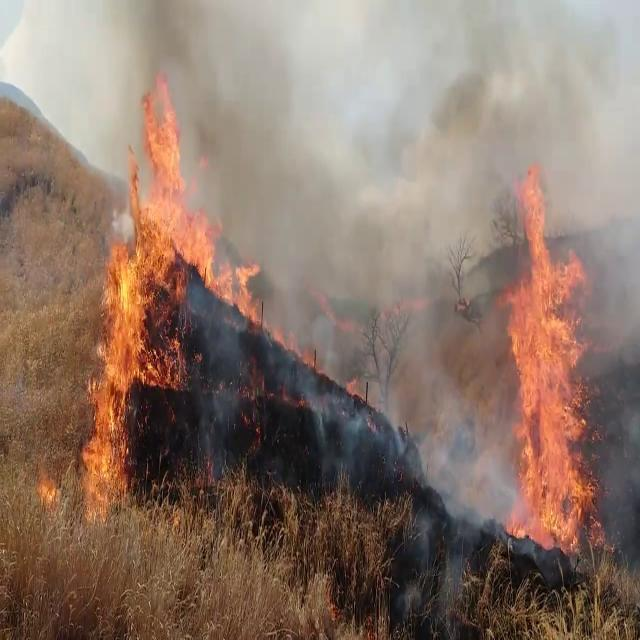Fire: (82, 78, 208, 503), (490, 160, 606, 550), (208, 241, 270, 329)
Smoke: (203, 11, 552, 524), (584, 75, 640, 586)
